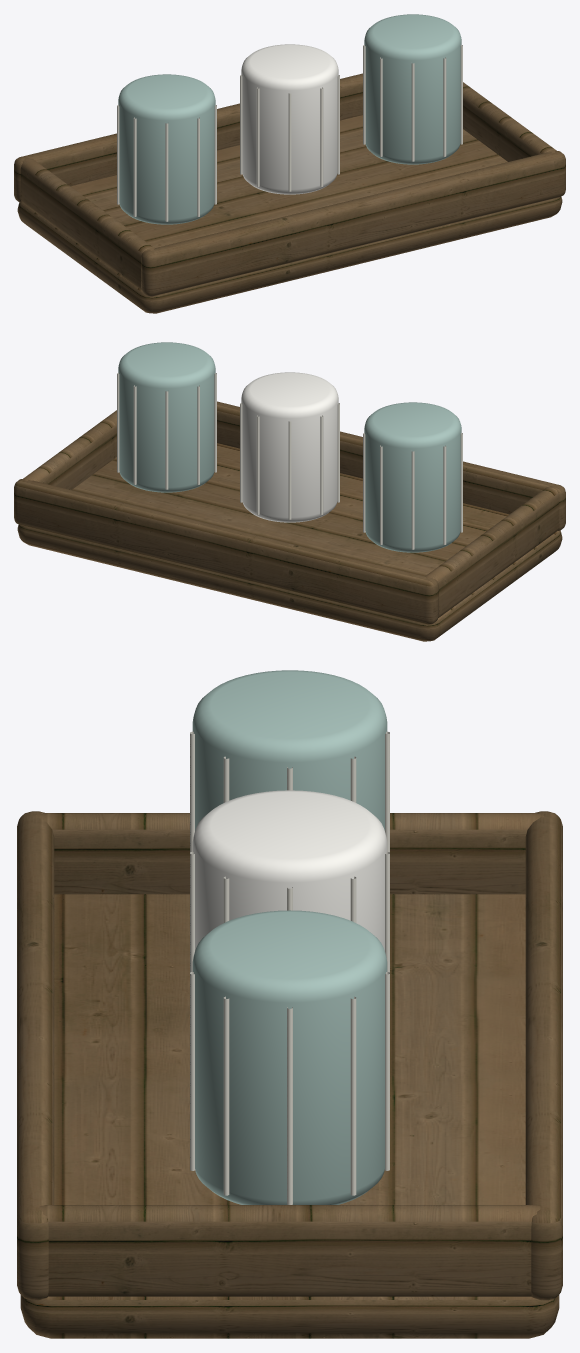
Rendered from nautical_counter_set.glb.
3 views of the same model, one above another, from view 1: azimuth 30°, elevation 25°; view 2: azimuth 150°, elevation 25°; view 3: azimuth 270°, elevation 25° (orthographic). The views are drawn at different scales.
Visible parts, largest first — view 1: Cube, vaso_ceramico, vaso_ceramico.001, ranhura; view 2: Cube, vaso_ceramico, vaso_ceramico.001, ranhura; view 3: Cube, vaso_ceramico, vaso_ceramico.001, ranhura.
Part boxes in pixels (x1=…): Cube: x1=14, y1=73, x2=565, y2=313; vaso_ceramico: x1=118, y1=14, x2=461, y2=224; vaso_ceramico.001: x1=241, y1=44, x2=338, y2=194; ranhura: x1=117, y1=45, x2=462, y2=221; Cube: x1=14, y1=401, x2=565, y2=641; vaso_ceramico: x1=118, y1=342, x2=461, y2=552; vaso_ceramico.001: x1=241, y1=372, x2=338, y2=522; ranhura: x1=117, y1=373, x2=462, y2=549; Cube: x1=17, y1=811, x2=562, y2=1338; vaso_ceramico: x1=192, y1=670, x2=387, y2=1204; vaso_ceramico.001: x1=192, y1=790, x2=387, y2=950; ranhura: x1=190, y1=731, x2=389, y2=1204.
Size of the model in its own units: 0.65 by 0.2345 by 0.365.
4 materials, 1 textured.
